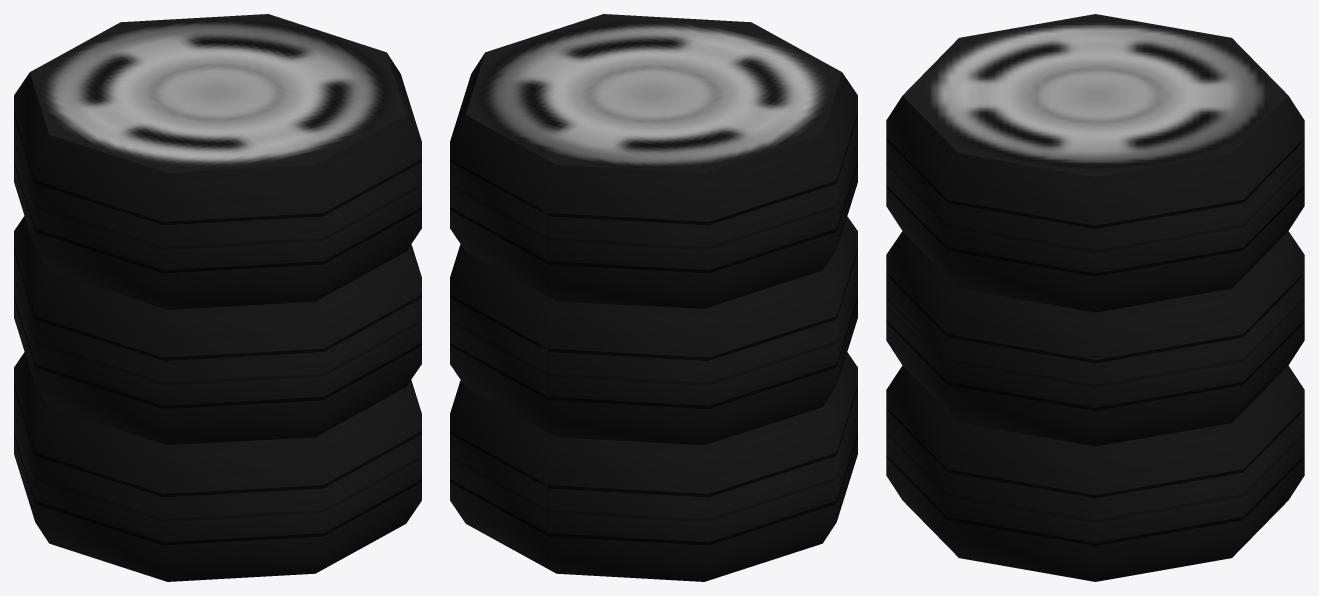
The model's file is tires.gltf.
3 views of the same model, side by side, from view 1: azimuth 30°, elevation 25°; view 2: azimuth 150°, elevation 25°; view 3: azimuth 270°, elevation 25° (orthographic).
Visible parts, largest first — view 1: Cylinder; view 2: Cylinder; view 3: Cylinder.
Part boxes in pixels (box(x1,y1,x2,y2)): Cylinder: box(14, 14, 421, 581); Cylinder: box(450, 14, 857, 581); Cylinder: box(886, 14, 1304, 581).
Bounding box in the file's own units: 1.76 × 1.88 × 1.76.
Materials: 1 (1 with a texture image).
